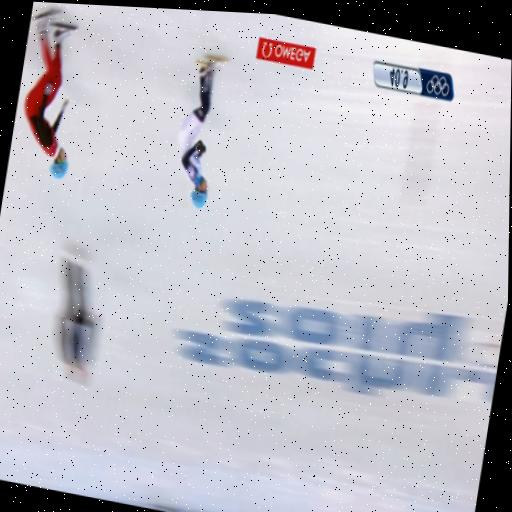Skater: (24, 11, 77, 177), (179, 58, 224, 207)
